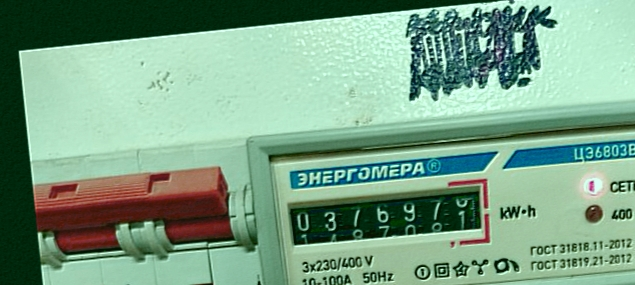0: (295, 210, 312, 234)
1: (456, 209, 468, 232)
3: (323, 211, 338, 233)
6: (374, 201, 391, 226)
7: (348, 205, 365, 229), (428, 197, 444, 221)
9: (401, 200, 417, 224)
screen: (277, 175, 497, 268)
